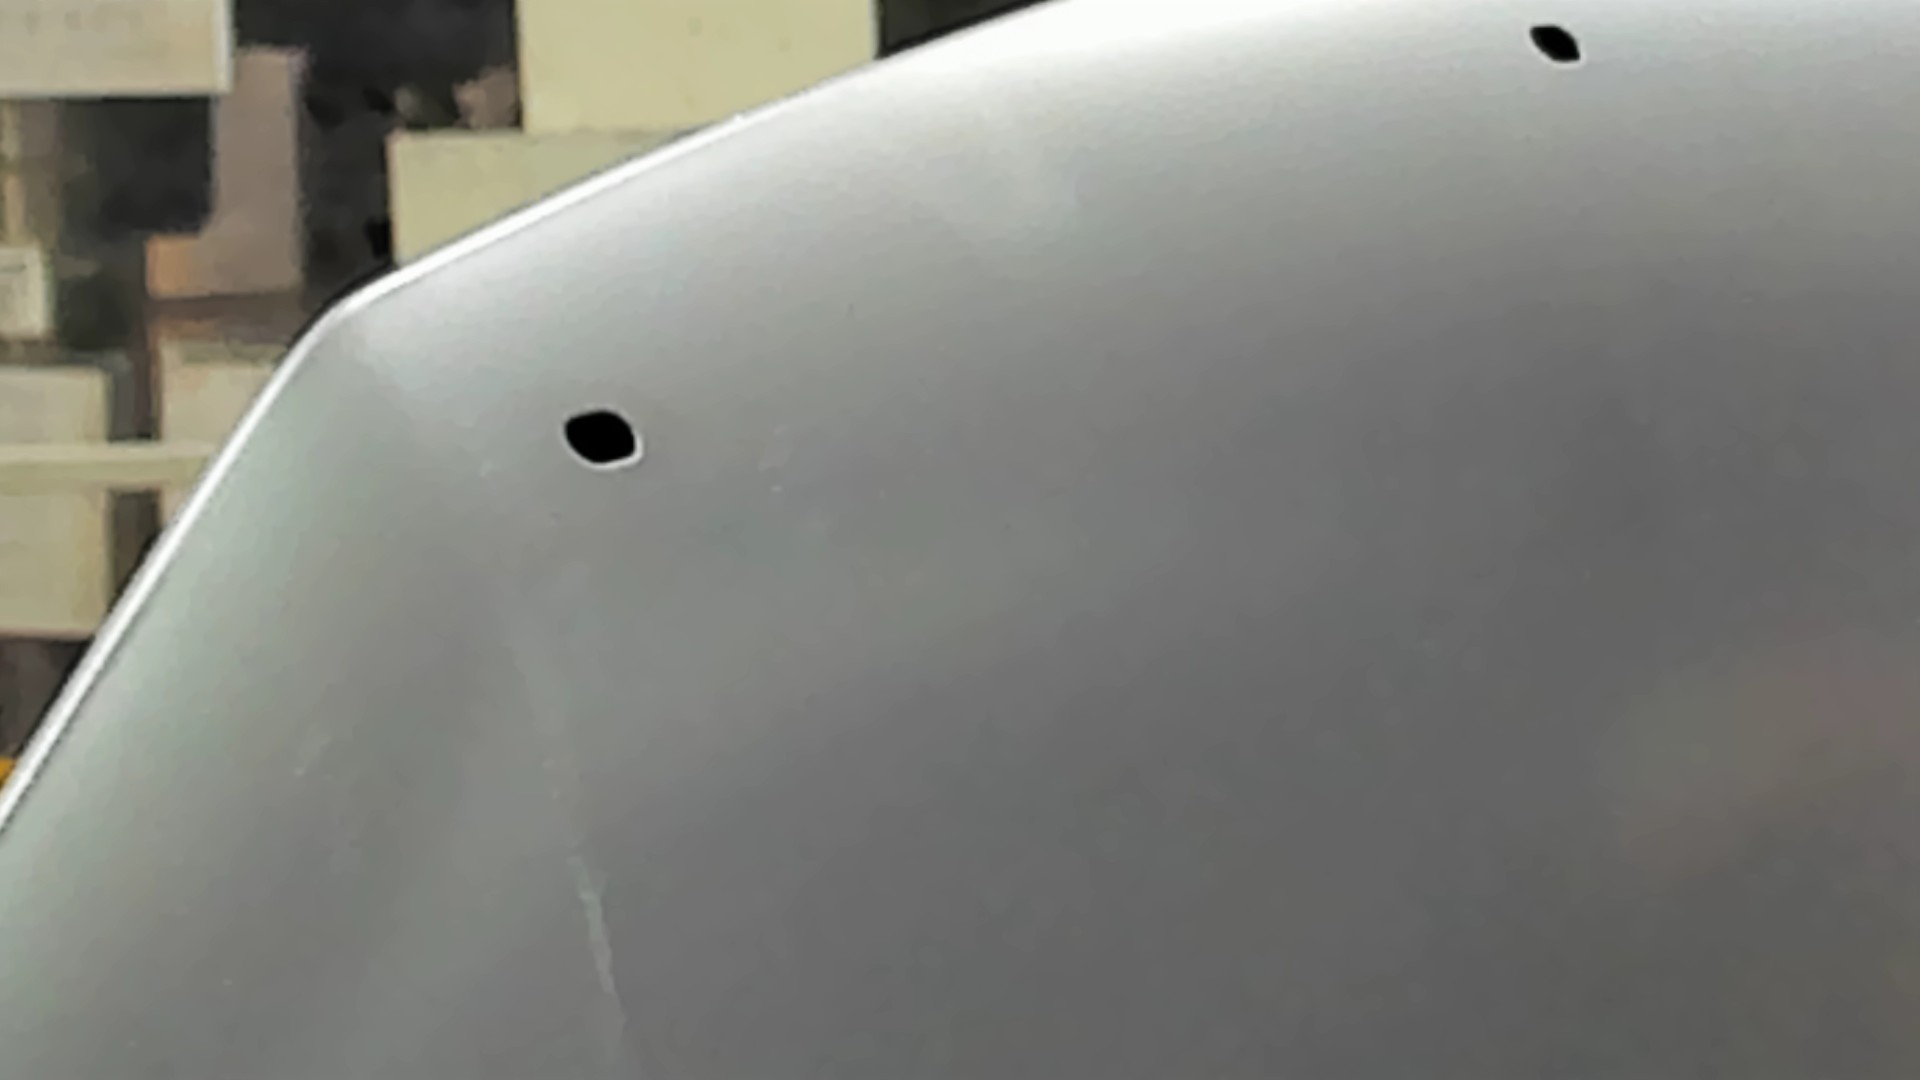amorfo: (560, 404, 644, 473), (1520, 18, 1592, 73)
